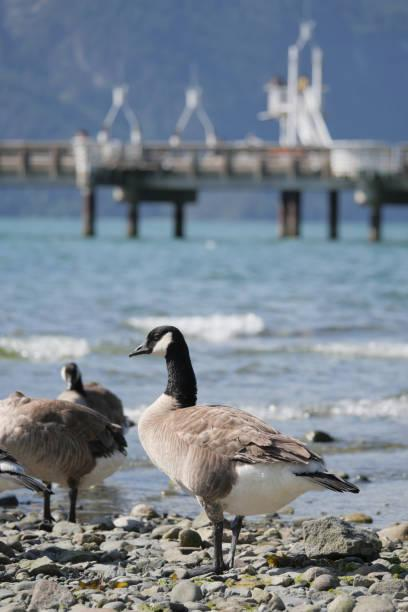Canadian-Goose: (132, 318, 350, 570), (0, 388, 124, 522), (50, 359, 122, 423)
